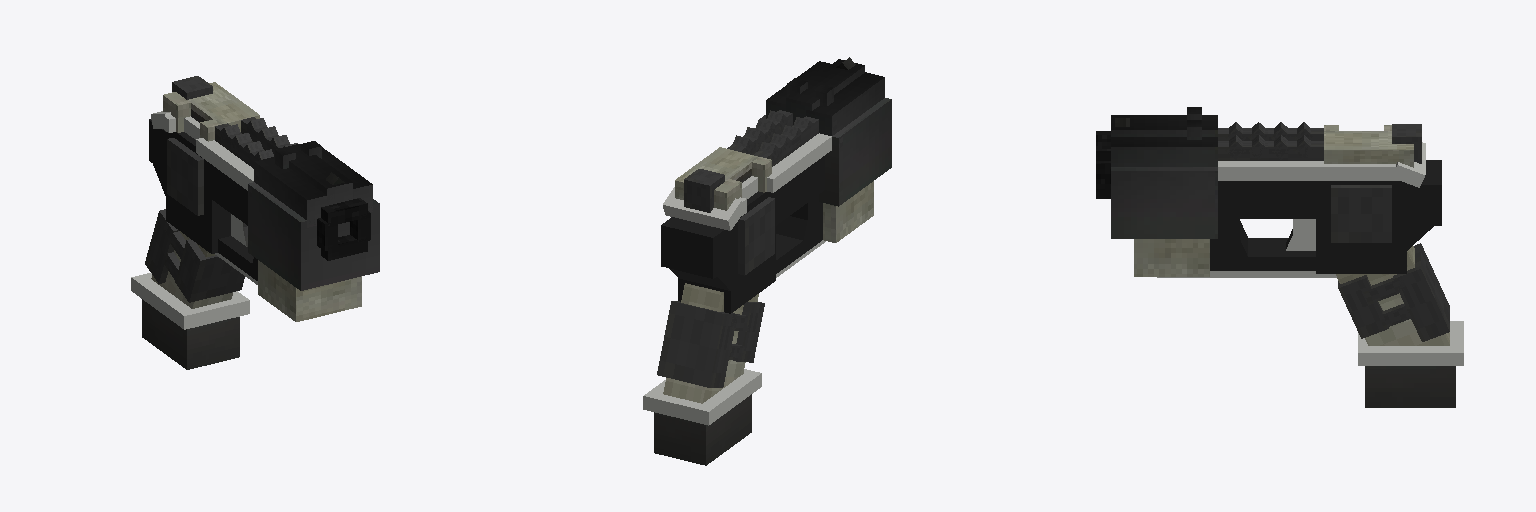
The picture shows the model from 3 angles: view 1: azimuth 30°, elevation 25°; view 2: azimuth 150°, elevation 25°; view 3: azimuth 270°, elevation 25°; orthographic projection.
Parts seen in each view (by area): view 1: Element #13, Element #2, Element #31, Element #3, Element #17, Element #40, Element #30, Element #48, Element #6, Element #18, Element #39, Element #14 (+11 smaller); view 2: Element #45, Element #13, Element #2, Element #15, Element #17, Element #30, Element #3, Element #48, Element #1, Element #31, Element #14, Element #18 (+12 smaller); view 3: Element #13, Element #14, Element #3, Element #2, Element #48, Element #5, Element #19, Element #45, Element #31, Element #6, Element #17, Element #15 (+13 smaller).
Boxes of the visible parts, box(x1,y1,x2,y2) form: Element #13: box(248, 182, 379, 290); Element #2: box(142, 299, 239, 369); Element #31: box(258, 260, 361, 321); Element #3: box(166, 132, 230, 253); Element #17: box(131, 273, 249, 329); Element #40: box(175, 239, 244, 302); Element #30: box(254, 157, 333, 227); Element #48: box(167, 138, 203, 215); Element #6: box(188, 82, 259, 131); Element #18: box(274, 144, 352, 205); Element #39: box(196, 138, 253, 190); Element #14: box(212, 165, 247, 225); Element #45: box(657, 301, 737, 387); Element #13: box(760, 98, 891, 206); Element #2: box(654, 394, 751, 465); Element #15: box(661, 217, 737, 278); Element #17: box(643, 369, 761, 425); Element #30: box(806, 72, 884, 135); Element #3: box(678, 191, 775, 313); Element #48: box(738, 197, 774, 275); Element #1: box(663, 283, 758, 403); Element #31: box(823, 181, 873, 242); Element #14: box(772, 156, 824, 225); Element #18: box(786, 59, 864, 124); Element #13: box(1111, 167, 1217, 238); Element #14: box(1218, 181, 1323, 218); Element #3: box(1316, 181, 1406, 273); Element #2: box(1365, 366, 1455, 407); Element #48: box(1331, 185, 1391, 242); Element #5: box(1218, 161, 1398, 180); Element #19: box(1111, 137, 1217, 166); Element #45: box(1393, 243, 1449, 341); Element #31: box(1134, 239, 1209, 276); Element #6: box(1324, 131, 1413, 167); Element #17: box(1358, 321, 1463, 365); Element #15: box(1392, 160, 1441, 225).
Bounding box in the file's own units: 3 × 10.12 × 12.12.
1 materials, 1 textured.